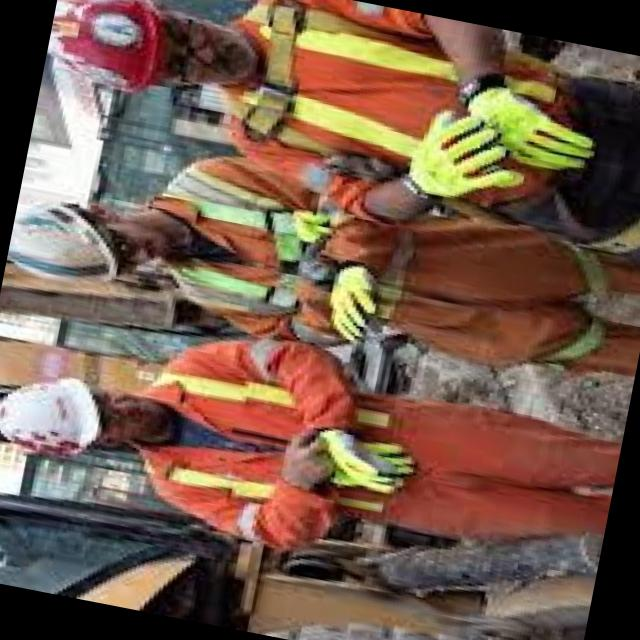gloved: (448, 69, 604, 176), (398, 101, 534, 210), (302, 422, 418, 500), (319, 260, 382, 344)
not-gloved: (272, 429, 336, 496)
